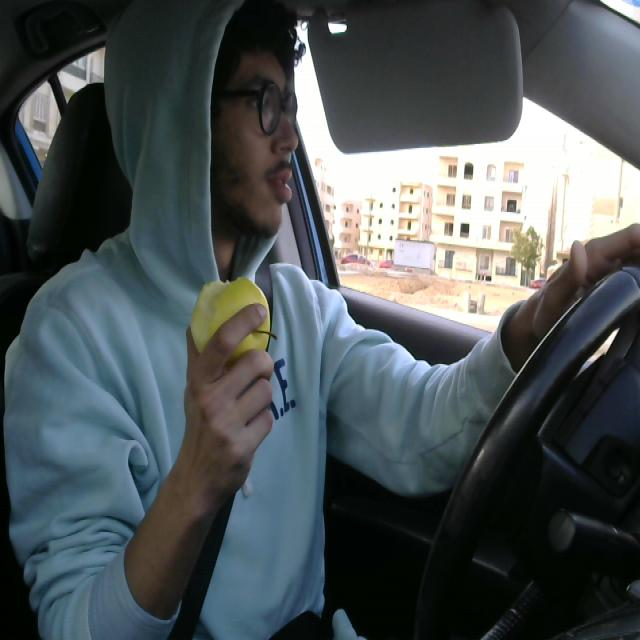eating: (190, 273, 280, 364)
